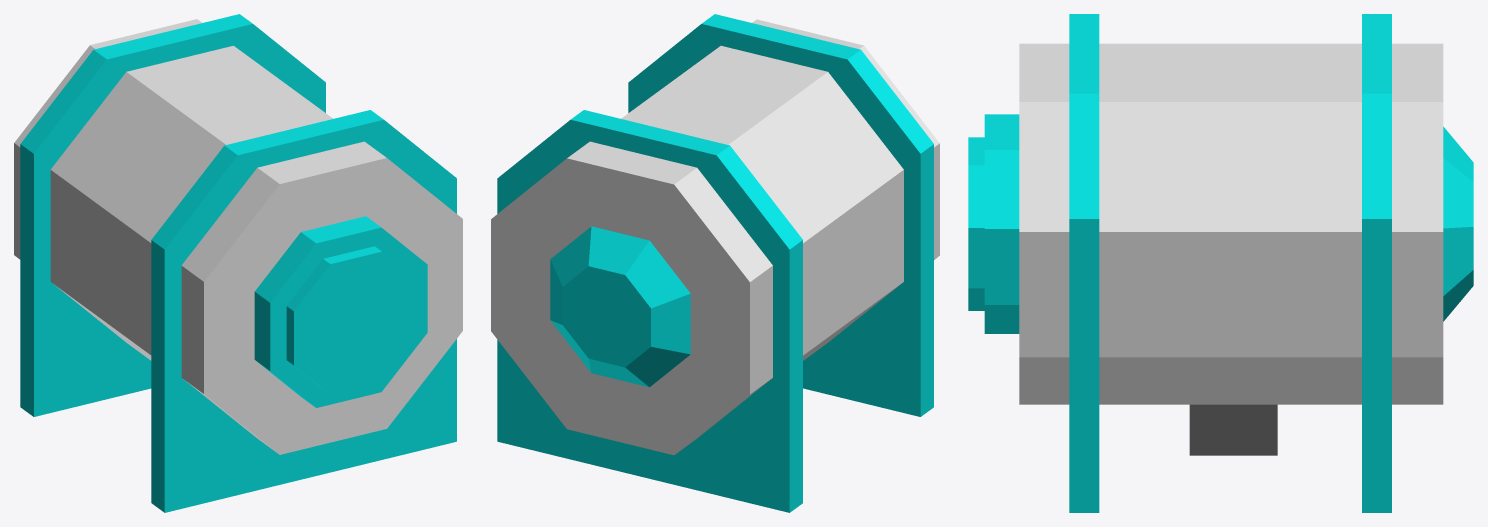
Rendered from WaterPumpBody.fbx.
3 renders of one model, left to right at view 1: azimuth 30°, elevation 25°; view 2: azimuth 150°, elevation 25°; view 3: azimuth 270°, elevation 25°, orthographic. The views are drawn at different scales.
Visible parts, largest first — view 1: Cylinder, Cube.004, Cube.005; view 2: Cylinder, Cube.005, Cube.004; view 3: Cylinder, Cube.004, Cube.005.
Part boxes in pixels (bbox=[...]): Cylinder: bbox=[14, 19, 462, 454]; Cube.004: bbox=[151, 110, 456, 512]; Cube.005: bbox=[20, 14, 325, 416]; Cylinder: bbox=[491, 19, 939, 455]; Cube.005: bbox=[497, 110, 802, 512]; Cube.004: bbox=[628, 14, 933, 416]; Cylinder: bbox=[968, 43, 1473, 455]; Cube.004: bbox=[1069, 14, 1099, 512]; Cube.005: bbox=[1362, 14, 1391, 512].
Bounding box in the file's own units: 108 × 120 × 145.
